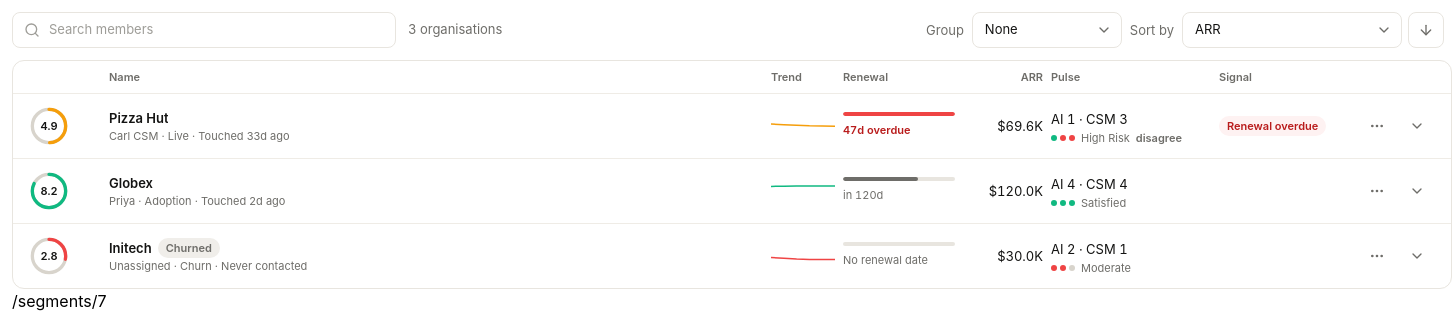
MembersTab (spec §3) › pins a member from its row menu, and the menu then offers Unpin
The width and height of the screenshot is (1452, 328).
Click the button named "Actions for Pizza Hut": [1377, 126] box [1359,108,1395,144]
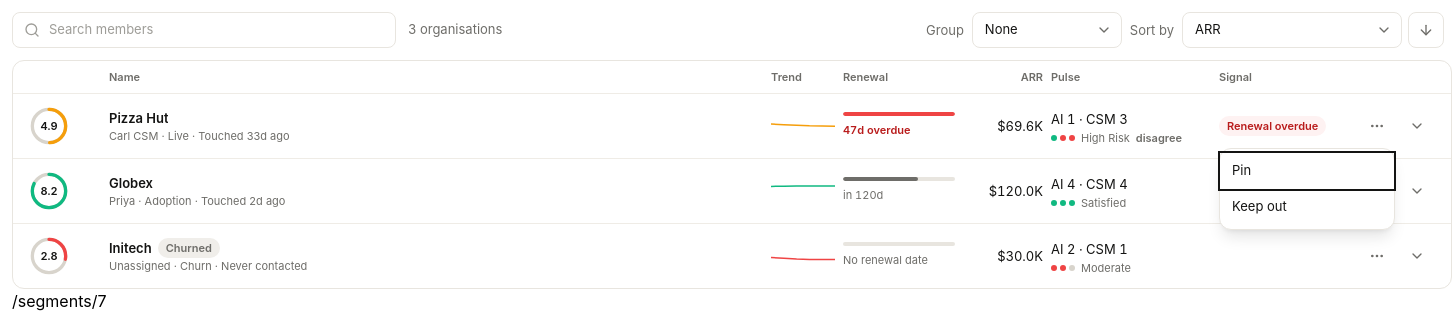
Click the menu item "Pin": [1307, 171] box [1220,153,1394,189]
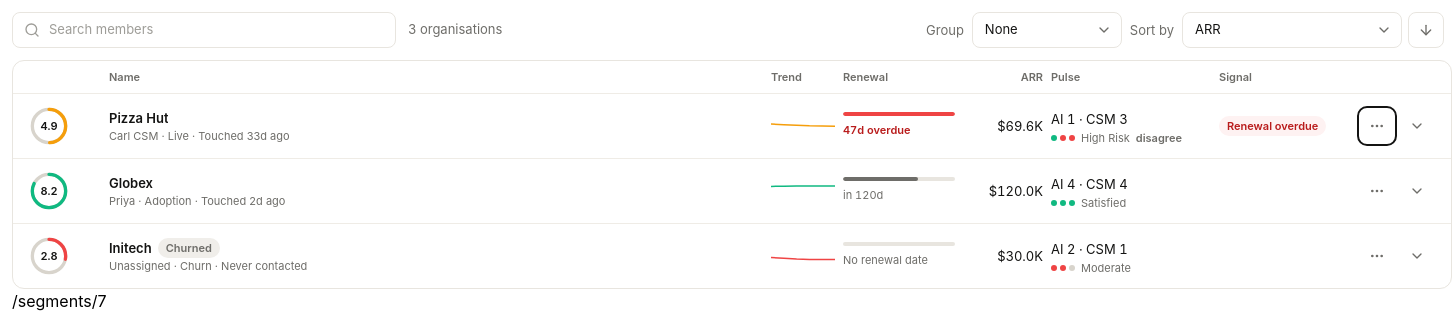
Click the button named "Actions for Pizza Hut": [1377, 126] box [1359,108,1395,144]
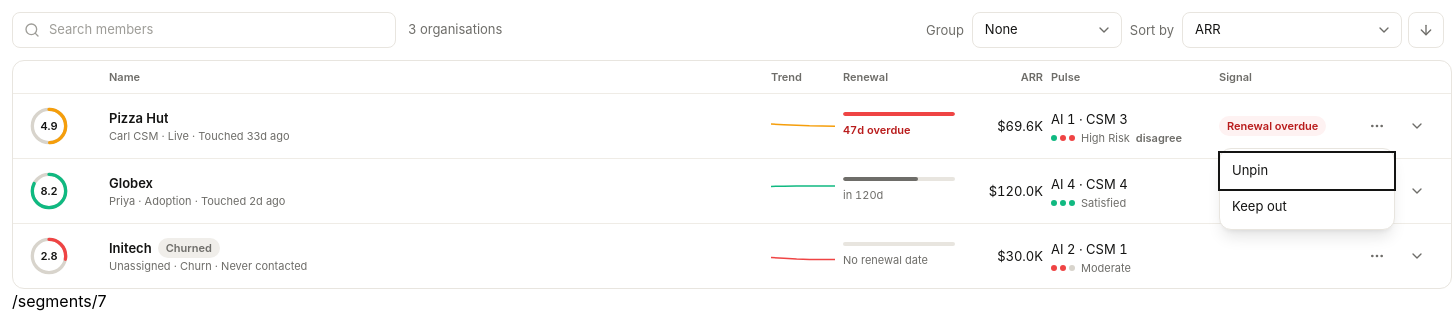
Now the menu item "Unpin" is shown, box [1220,153,1394,189]
